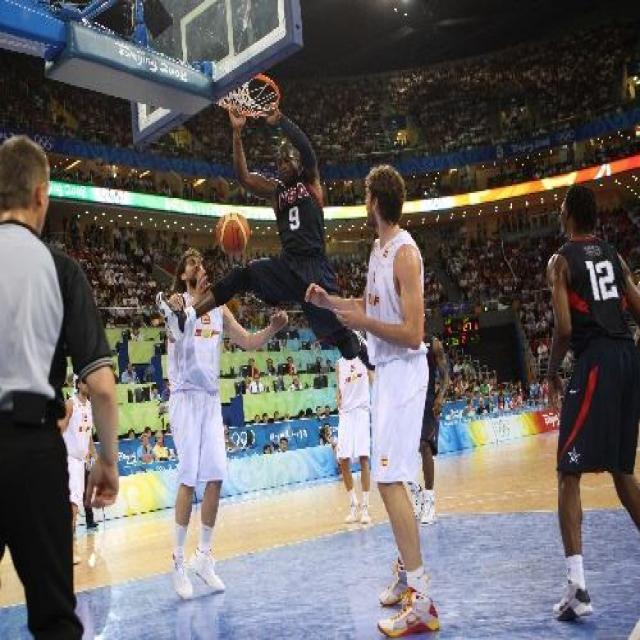ball: (218, 212, 250, 256)
